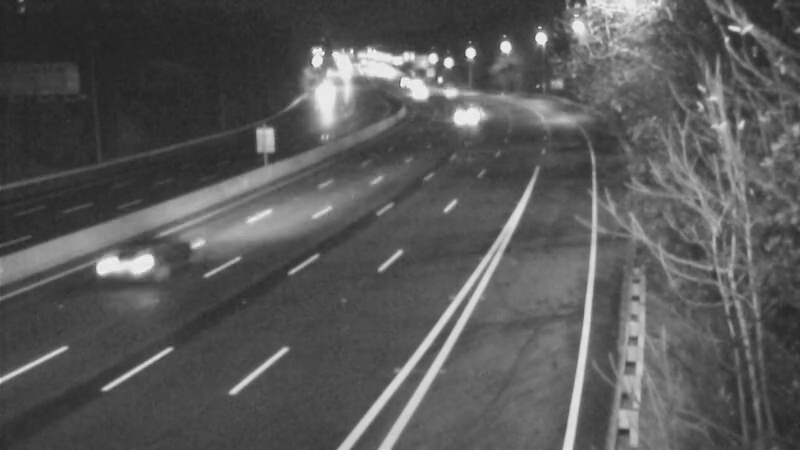vehicle: (90, 218, 170, 298), (429, 61, 479, 111), (399, 68, 449, 118), (425, 92, 475, 142), (295, 70, 345, 120)
